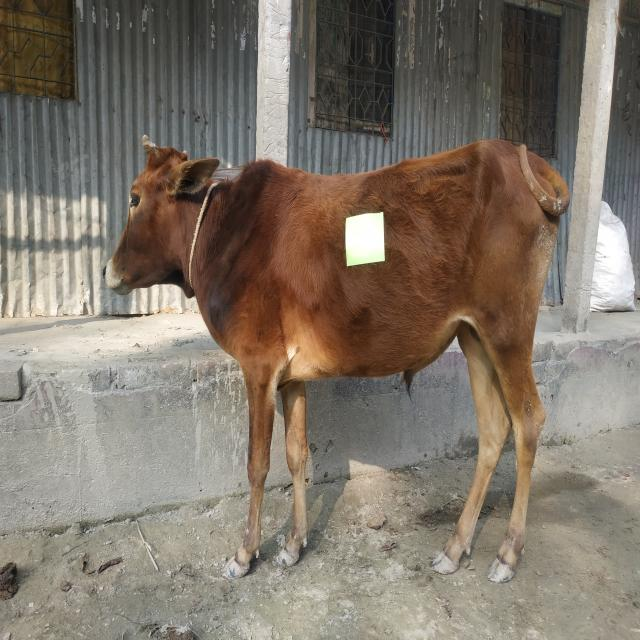badan_sapi: (231, 143, 544, 385)
sapi: (99, 127, 576, 587)
